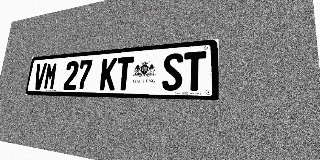2: (63, 60, 79, 90)
7: (76, 59, 93, 90)
K: (99, 58, 118, 90)
M: (43, 62, 58, 90)
S: (162, 53, 184, 91)
T: (183, 51, 206, 91), (115, 56, 134, 90)
V: (33, 63, 47, 90)
